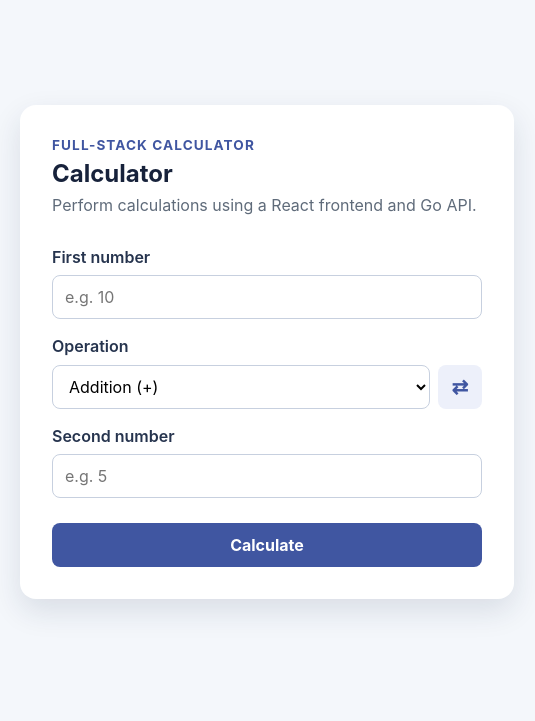
Test: Calculator app › shows a successful result and adds it to history
Step 1. Type "10" into the number field labelled "First number" → (267, 297), box left=52, top=275, right=482, bottom=319
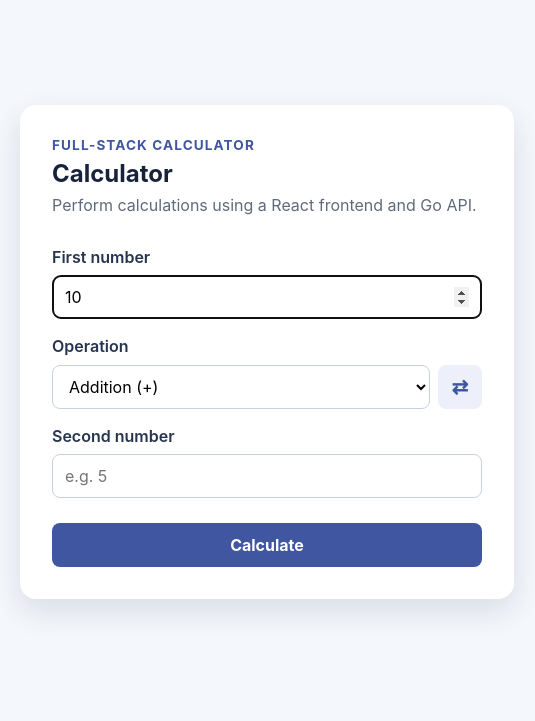
Step 2. Type "5" into the number field labelled "Second number" → (267, 476), box left=52, top=454, right=482, bottom=498
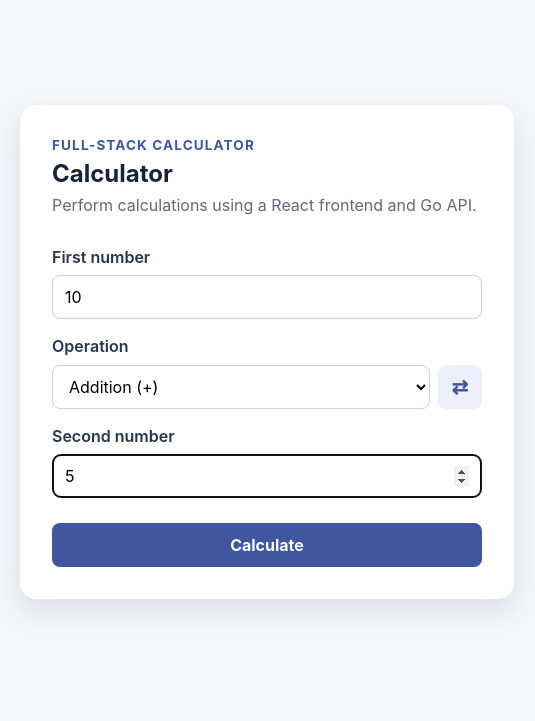
Step 3. Click the button "Calculate" → (267, 545), box left=52, top=523, right=482, bottom=567
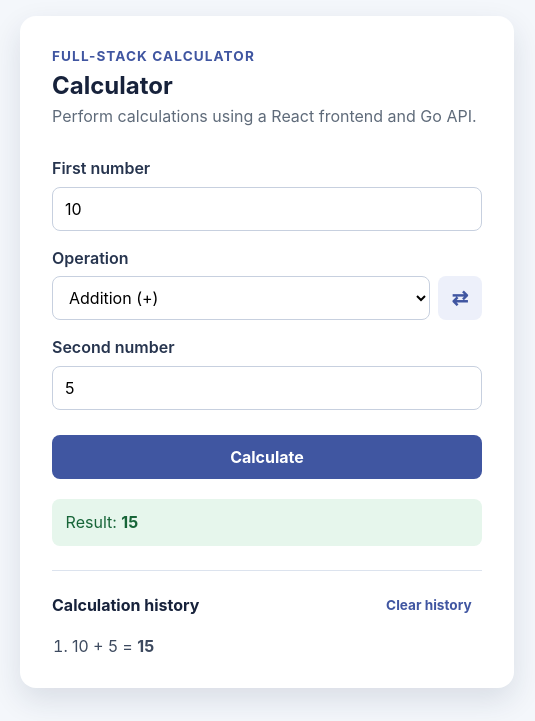
Check: the message reads "Result: 15", box left=52, top=499, right=482, bottom=546
Check: the list item reads "10 + 5 = 15", box left=72, top=636, right=154, bottom=656
